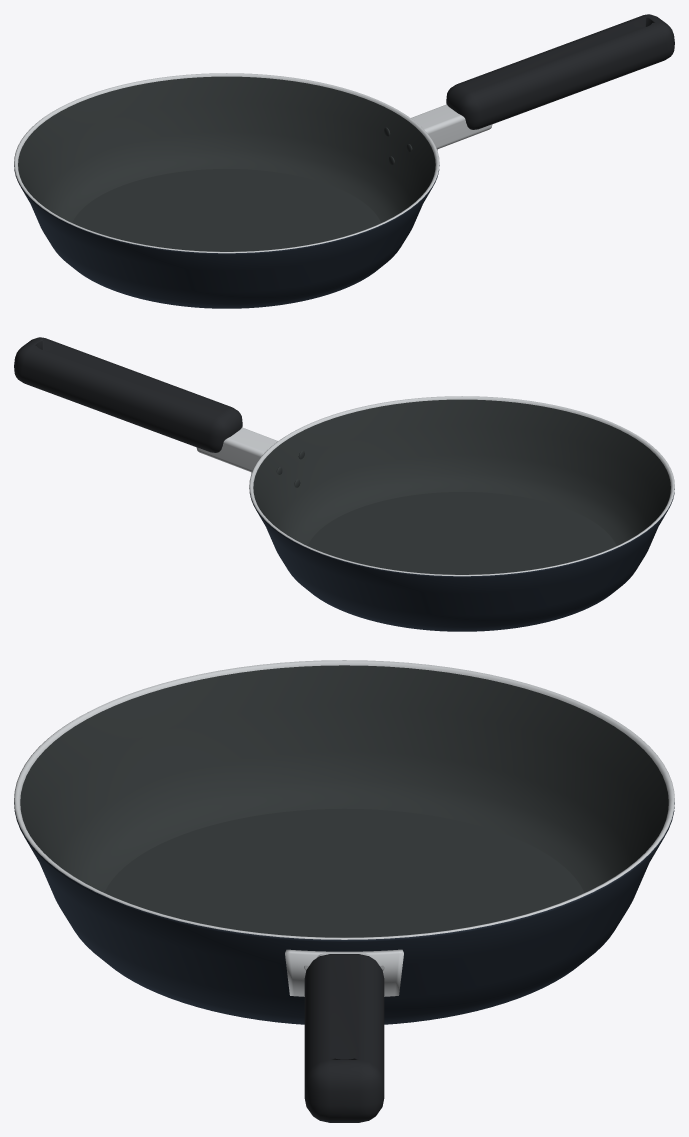
The model's file is frying_pan.glb.
3 renders of one model, top to bottom at view 1: azimuth 30°, elevation 25°; view 2: azimuth 150°, elevation 25°; view 3: azimuth 270°, elevation 25°, orthographic. The views are drawn at different scales.
Parts seen in each view (by area): view 1: Pan continuous bowl wall and floor, Pan phenolic handle, Pan handle steel tang; view 2: Pan continuous bowl wall and floor, Pan phenolic handle, Pan handle steel tang; view 3: Pan continuous bowl wall and floor, Pan phenolic handle, Pan handle mounting bracket.
Boxes of the visible parts, x1,y1,x2,y2 form: Pan continuous bowl wall and floor: (14, 73, 439, 308); Pan phenolic handle: (446, 14, 674, 129); Pan handle steel tang: (411, 104, 492, 149); Pan continuous bowl wall and floor: (249, 396, 674, 631); Pan phenolic handle: (14, 337, 242, 452); Pan handle steel tang: (196, 427, 277, 472); Pan continuous bowl wall and floor: (14, 660, 674, 1024); Pan phenolic handle: (304, 954, 384, 1122); Pan handle mounting bracket: (285, 949, 403, 996).
Bounding box in the file's own units: 0.4498 × 0.082 × 0.265.
